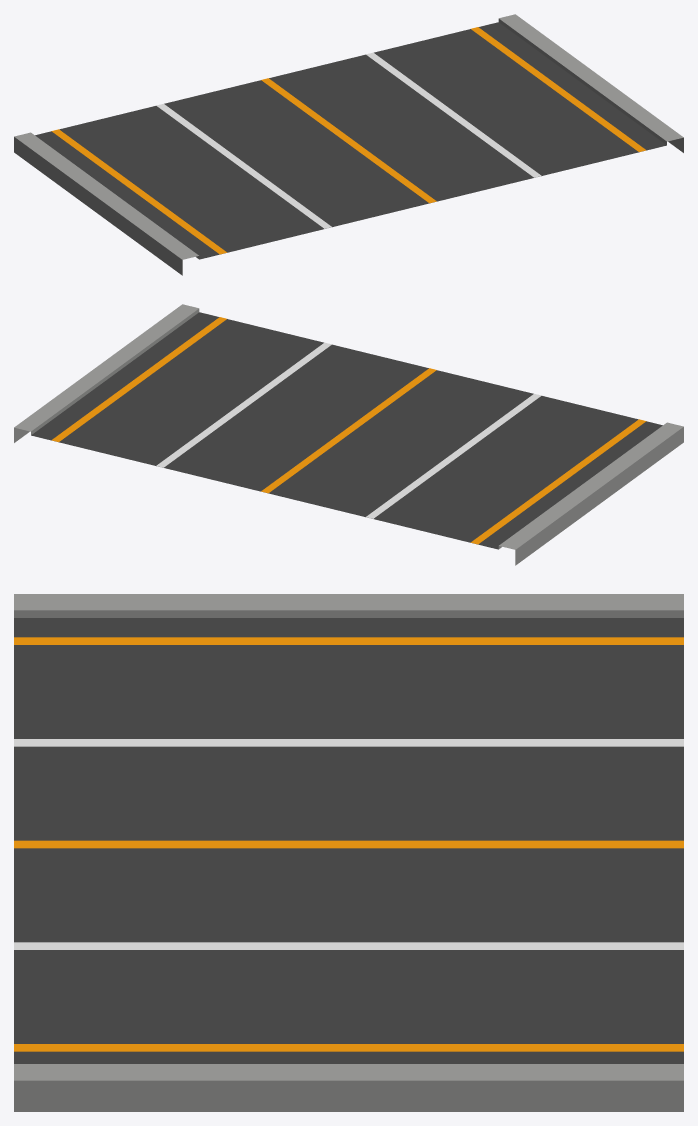
The model's file is Road_A_2L_2_2.fbx.
3 renders of one model, top to bottom at view 1: azimuth 30°, elevation 25°; view 2: azimuth 150°, elevation 25°; view 3: azimuth 270°, elevation 25°, orthographic. The views are drawn at different scales.
Parts seen in each view (by area): view 1: Road_A_2L_2_2; view 2: Road_A_2L_2_2; view 3: Road_A_2L_2_2.
Part boxes in pixels (x1,y1,x2,y2): Road_A_2L_2_2: [14, 14, 683, 275]; Road_A_2L_2_2: [14, 304, 683, 565]; Road_A_2L_2_2: [14, 594, 683, 1111].
Size of the model in its own units: 1375 by 41.48 by 800.
